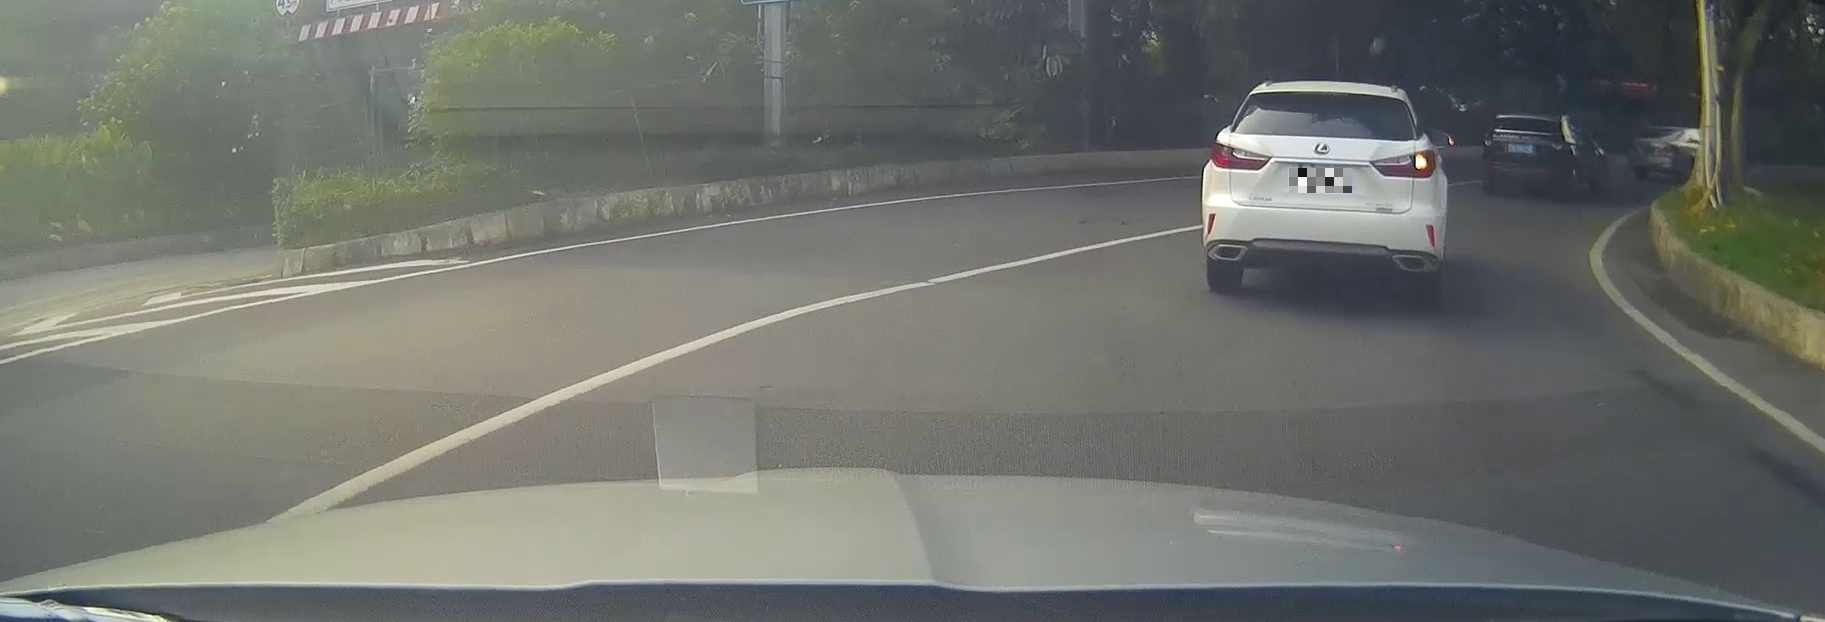L_light: (1210, 141, 1273, 172)
R_light: (1369, 148, 1437, 179)
T_light: (1312, 89, 1348, 96)
day-right: (1203, 80, 1443, 294)
plate_1: (1288, 168, 1352, 193)
